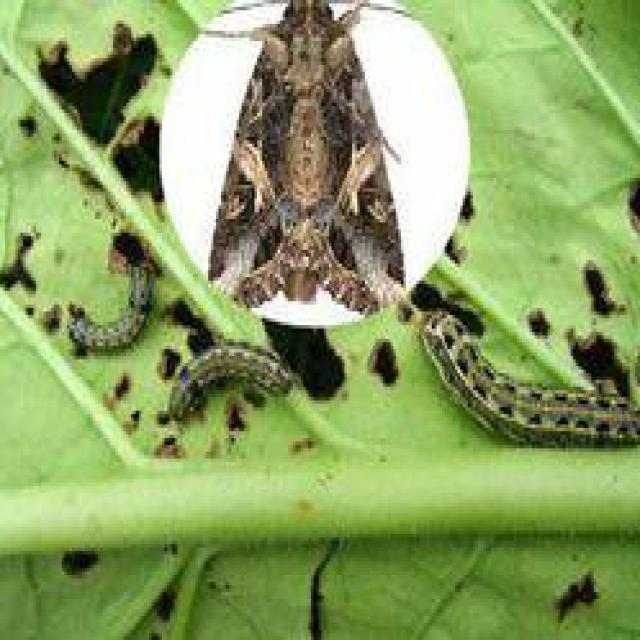BeetArmyWorm-Adult-: (204, 2, 409, 323)
BeetArmyWorm-Larva-: (422, 302, 637, 452), (163, 342, 293, 428), (67, 254, 162, 358)
